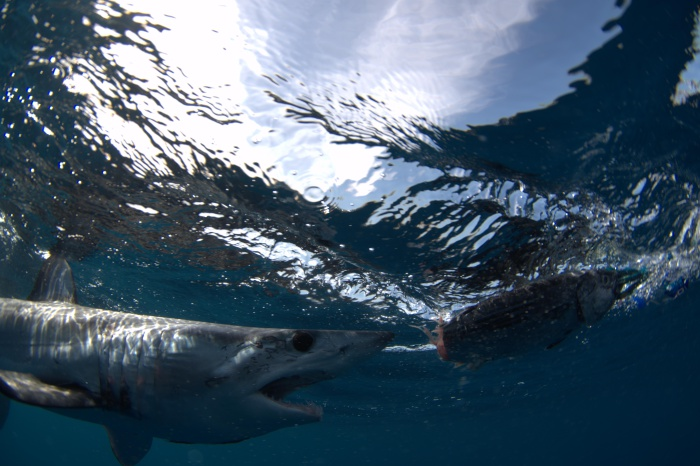Mako: (1, 244, 412, 465)
